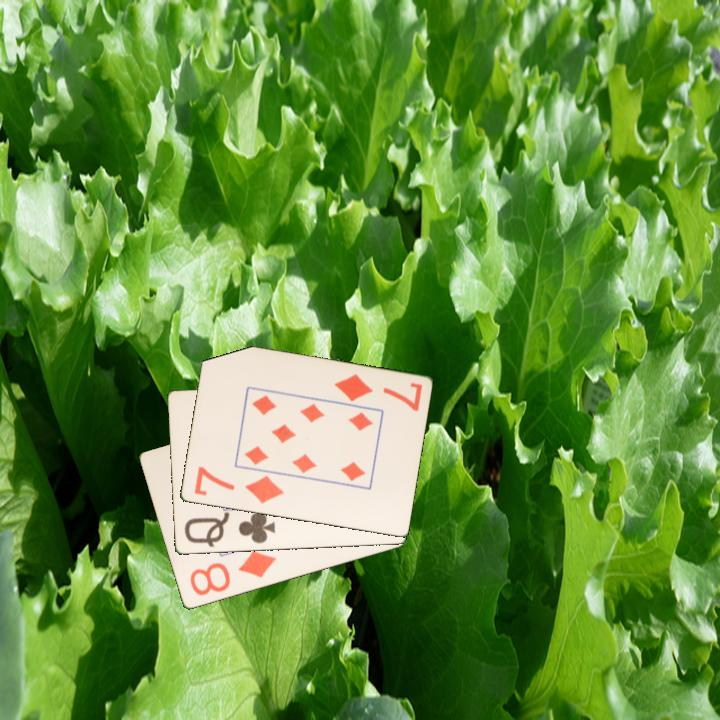7d: (190, 463, 287, 507), (330, 370, 425, 414)
8d: (186, 547, 279, 599)
Qc: (180, 509, 278, 550)
